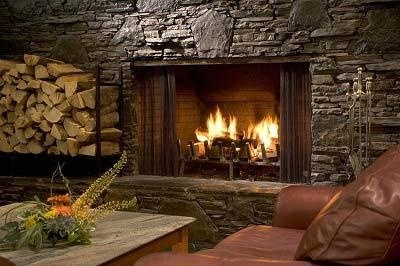fire: (194, 107, 238, 142), (247, 114, 278, 154)
